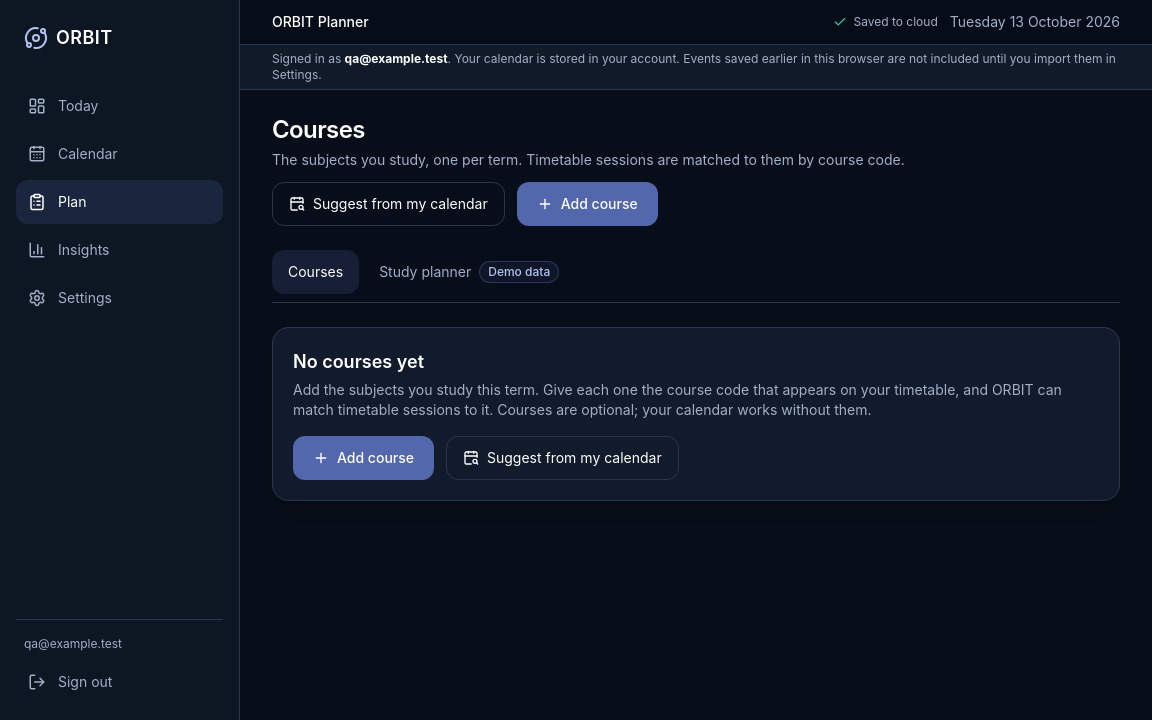
feature flag and navigation › the Study Planner demo is still reachable from Plan, keeps its Demo data label, and Plan stays highlighted there
Click the link "Study planner Demo data" at [469, 272], box [379,261,559,283]
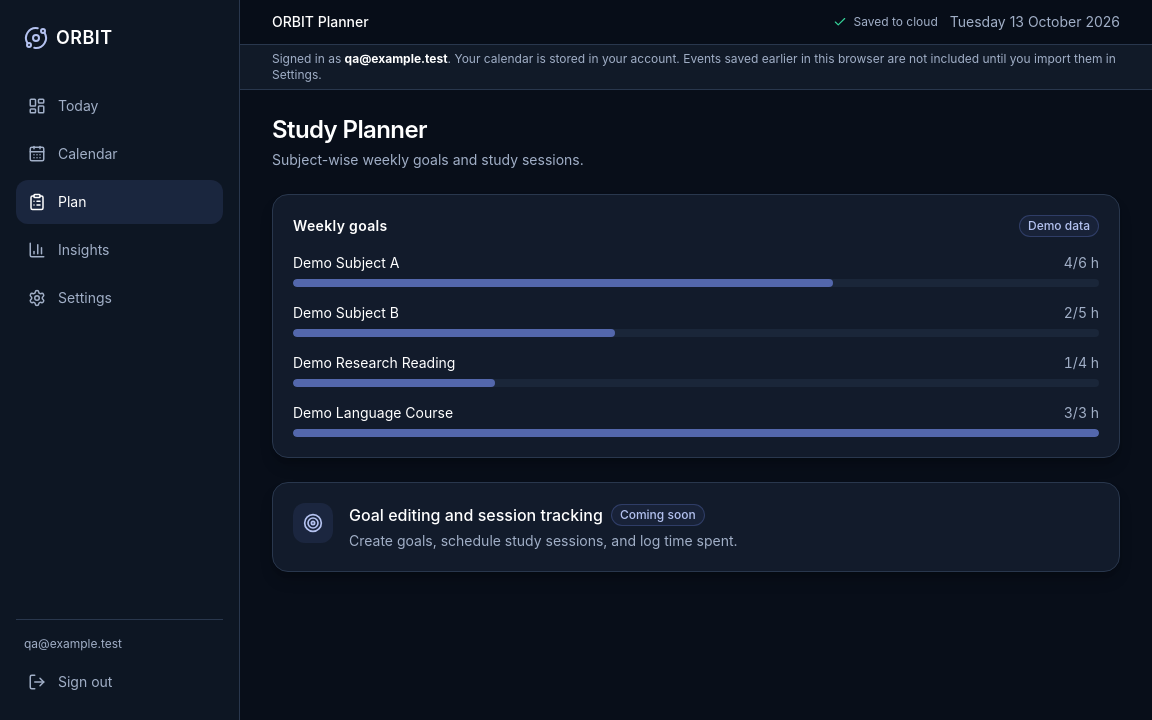
Expected: the text "Demo data" is shown, [1019,215,1099,237]
Expected: the heading "Study Planner" is shown, [272,115,427,144]
